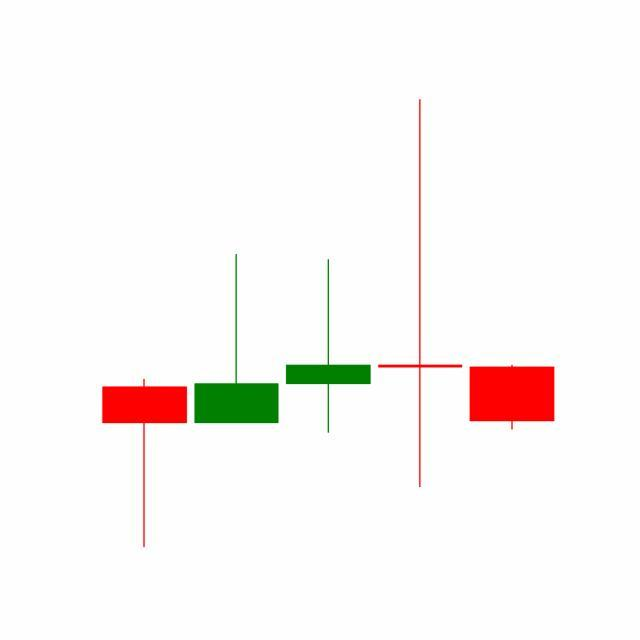Spinning Top: (374, 96, 468, 493)
